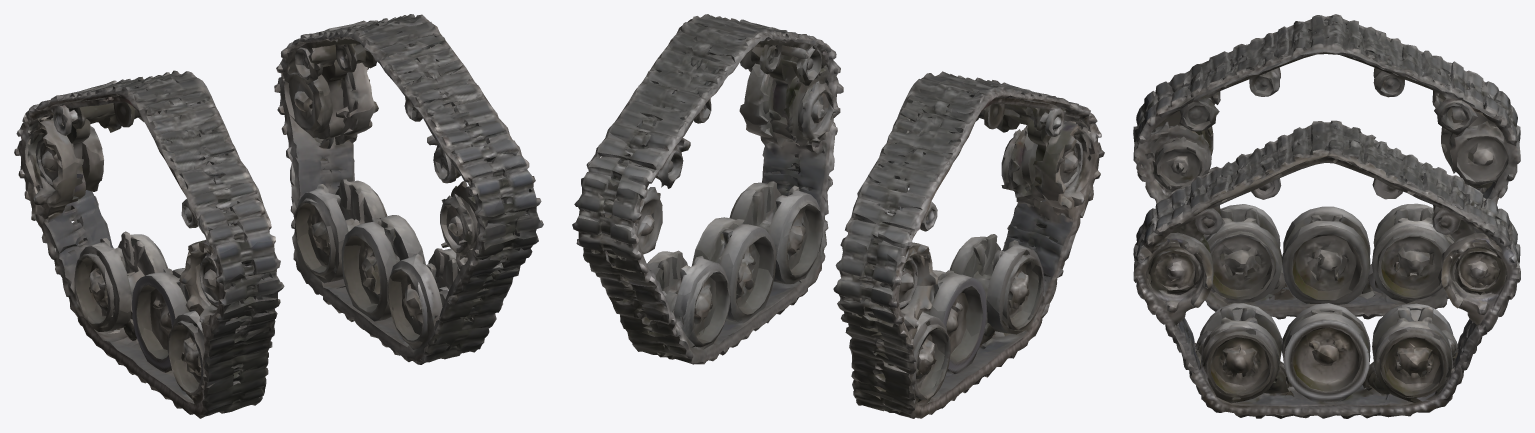
The model's file is heavy_tracks_only_v3.glb.
The picture shows the model from 3 angles, left to right: view 1: azimuth 30°, elevation 25°; view 2: azimuth 150°, elevation 25°; view 3: azimuth 270°, elevation 25°; orthographic projection. The views are drawn at different scales.
Visible parts, largest first — view 1: geometry_0; view 2: geometry_0; view 3: geometry_0.
Part boxes in pixels (x1,y1,x2,y2): geometry_0: (14,14,543,418); geometry_0: (572,14,1104,418); geometry_0: (1133,14,1520,418).
Size of the model in its own units: 3.5 by 3.04 by 3.88.
1 material, 1 textured.
